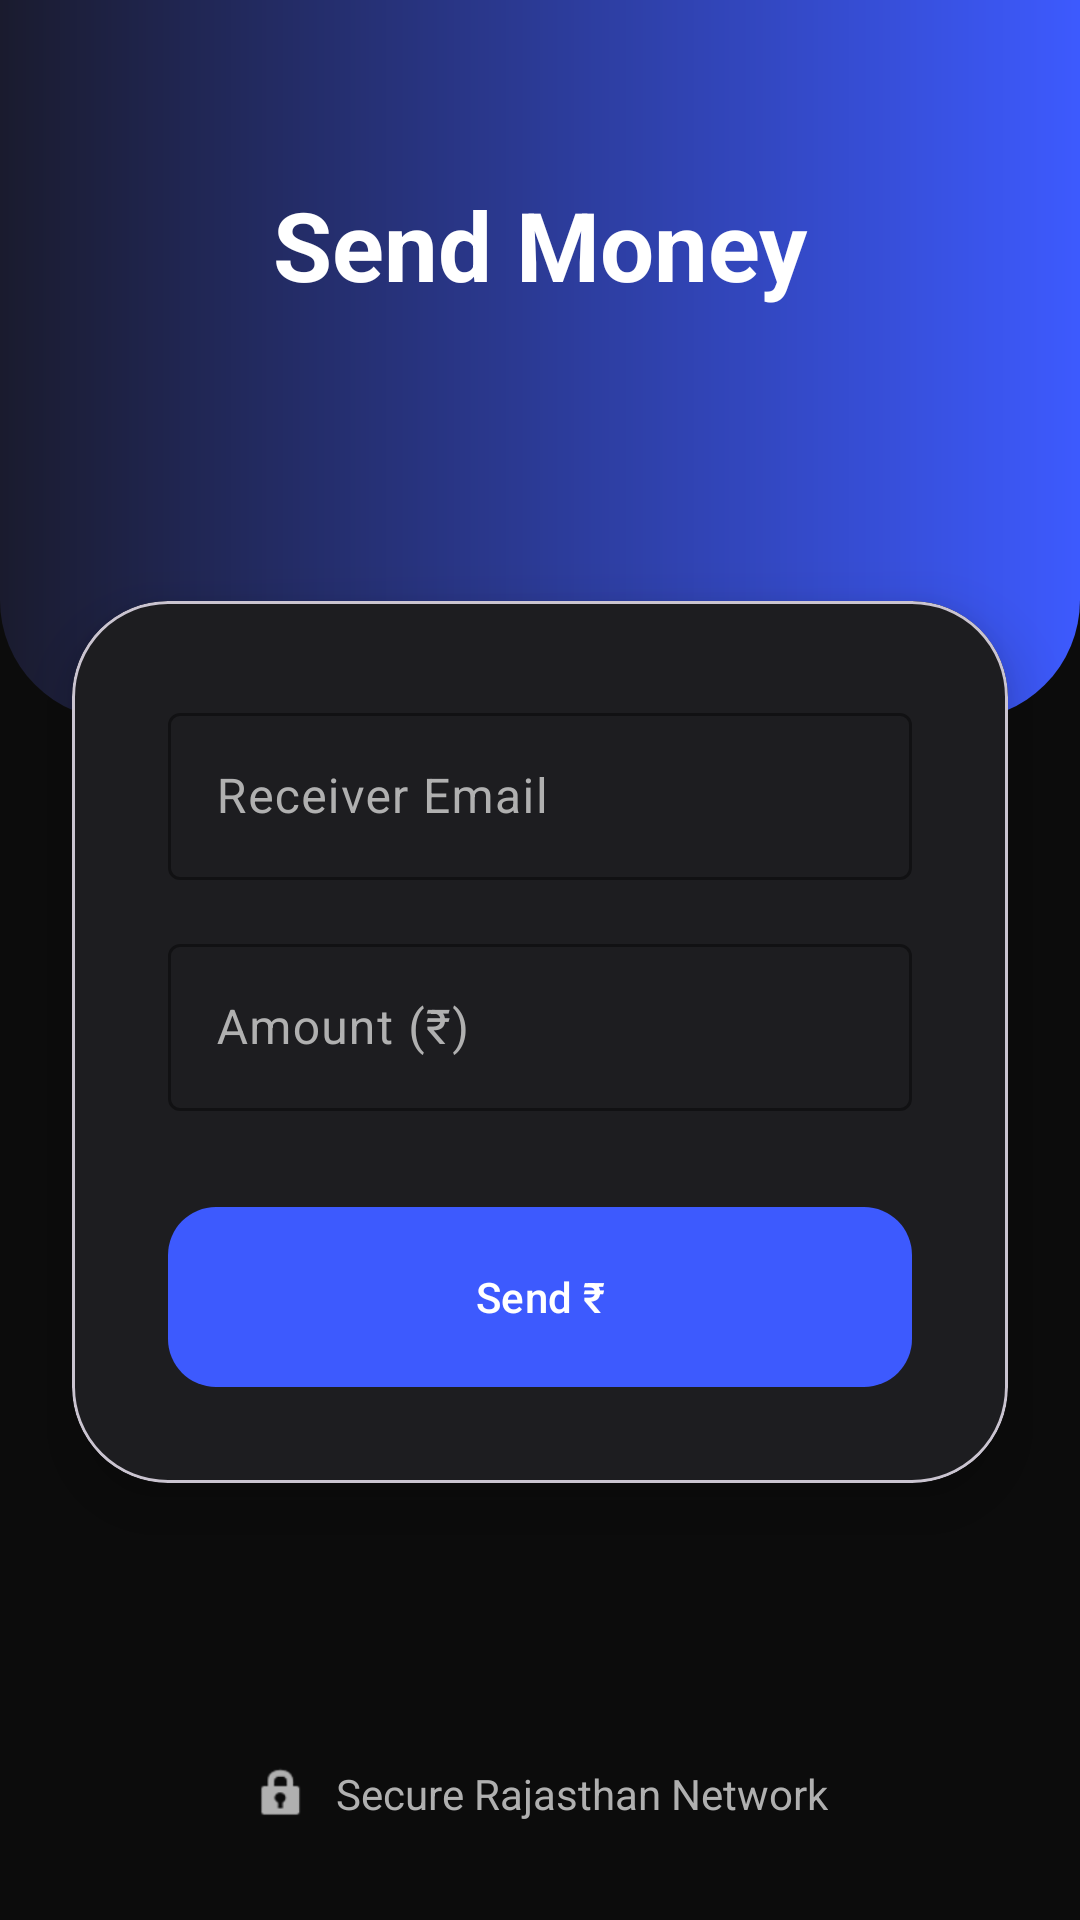

Where icons sit on this 1080px x 1920px app screen, as (x1, y1, x2, y2):
lock idle: (261, 1769, 300, 1815)
